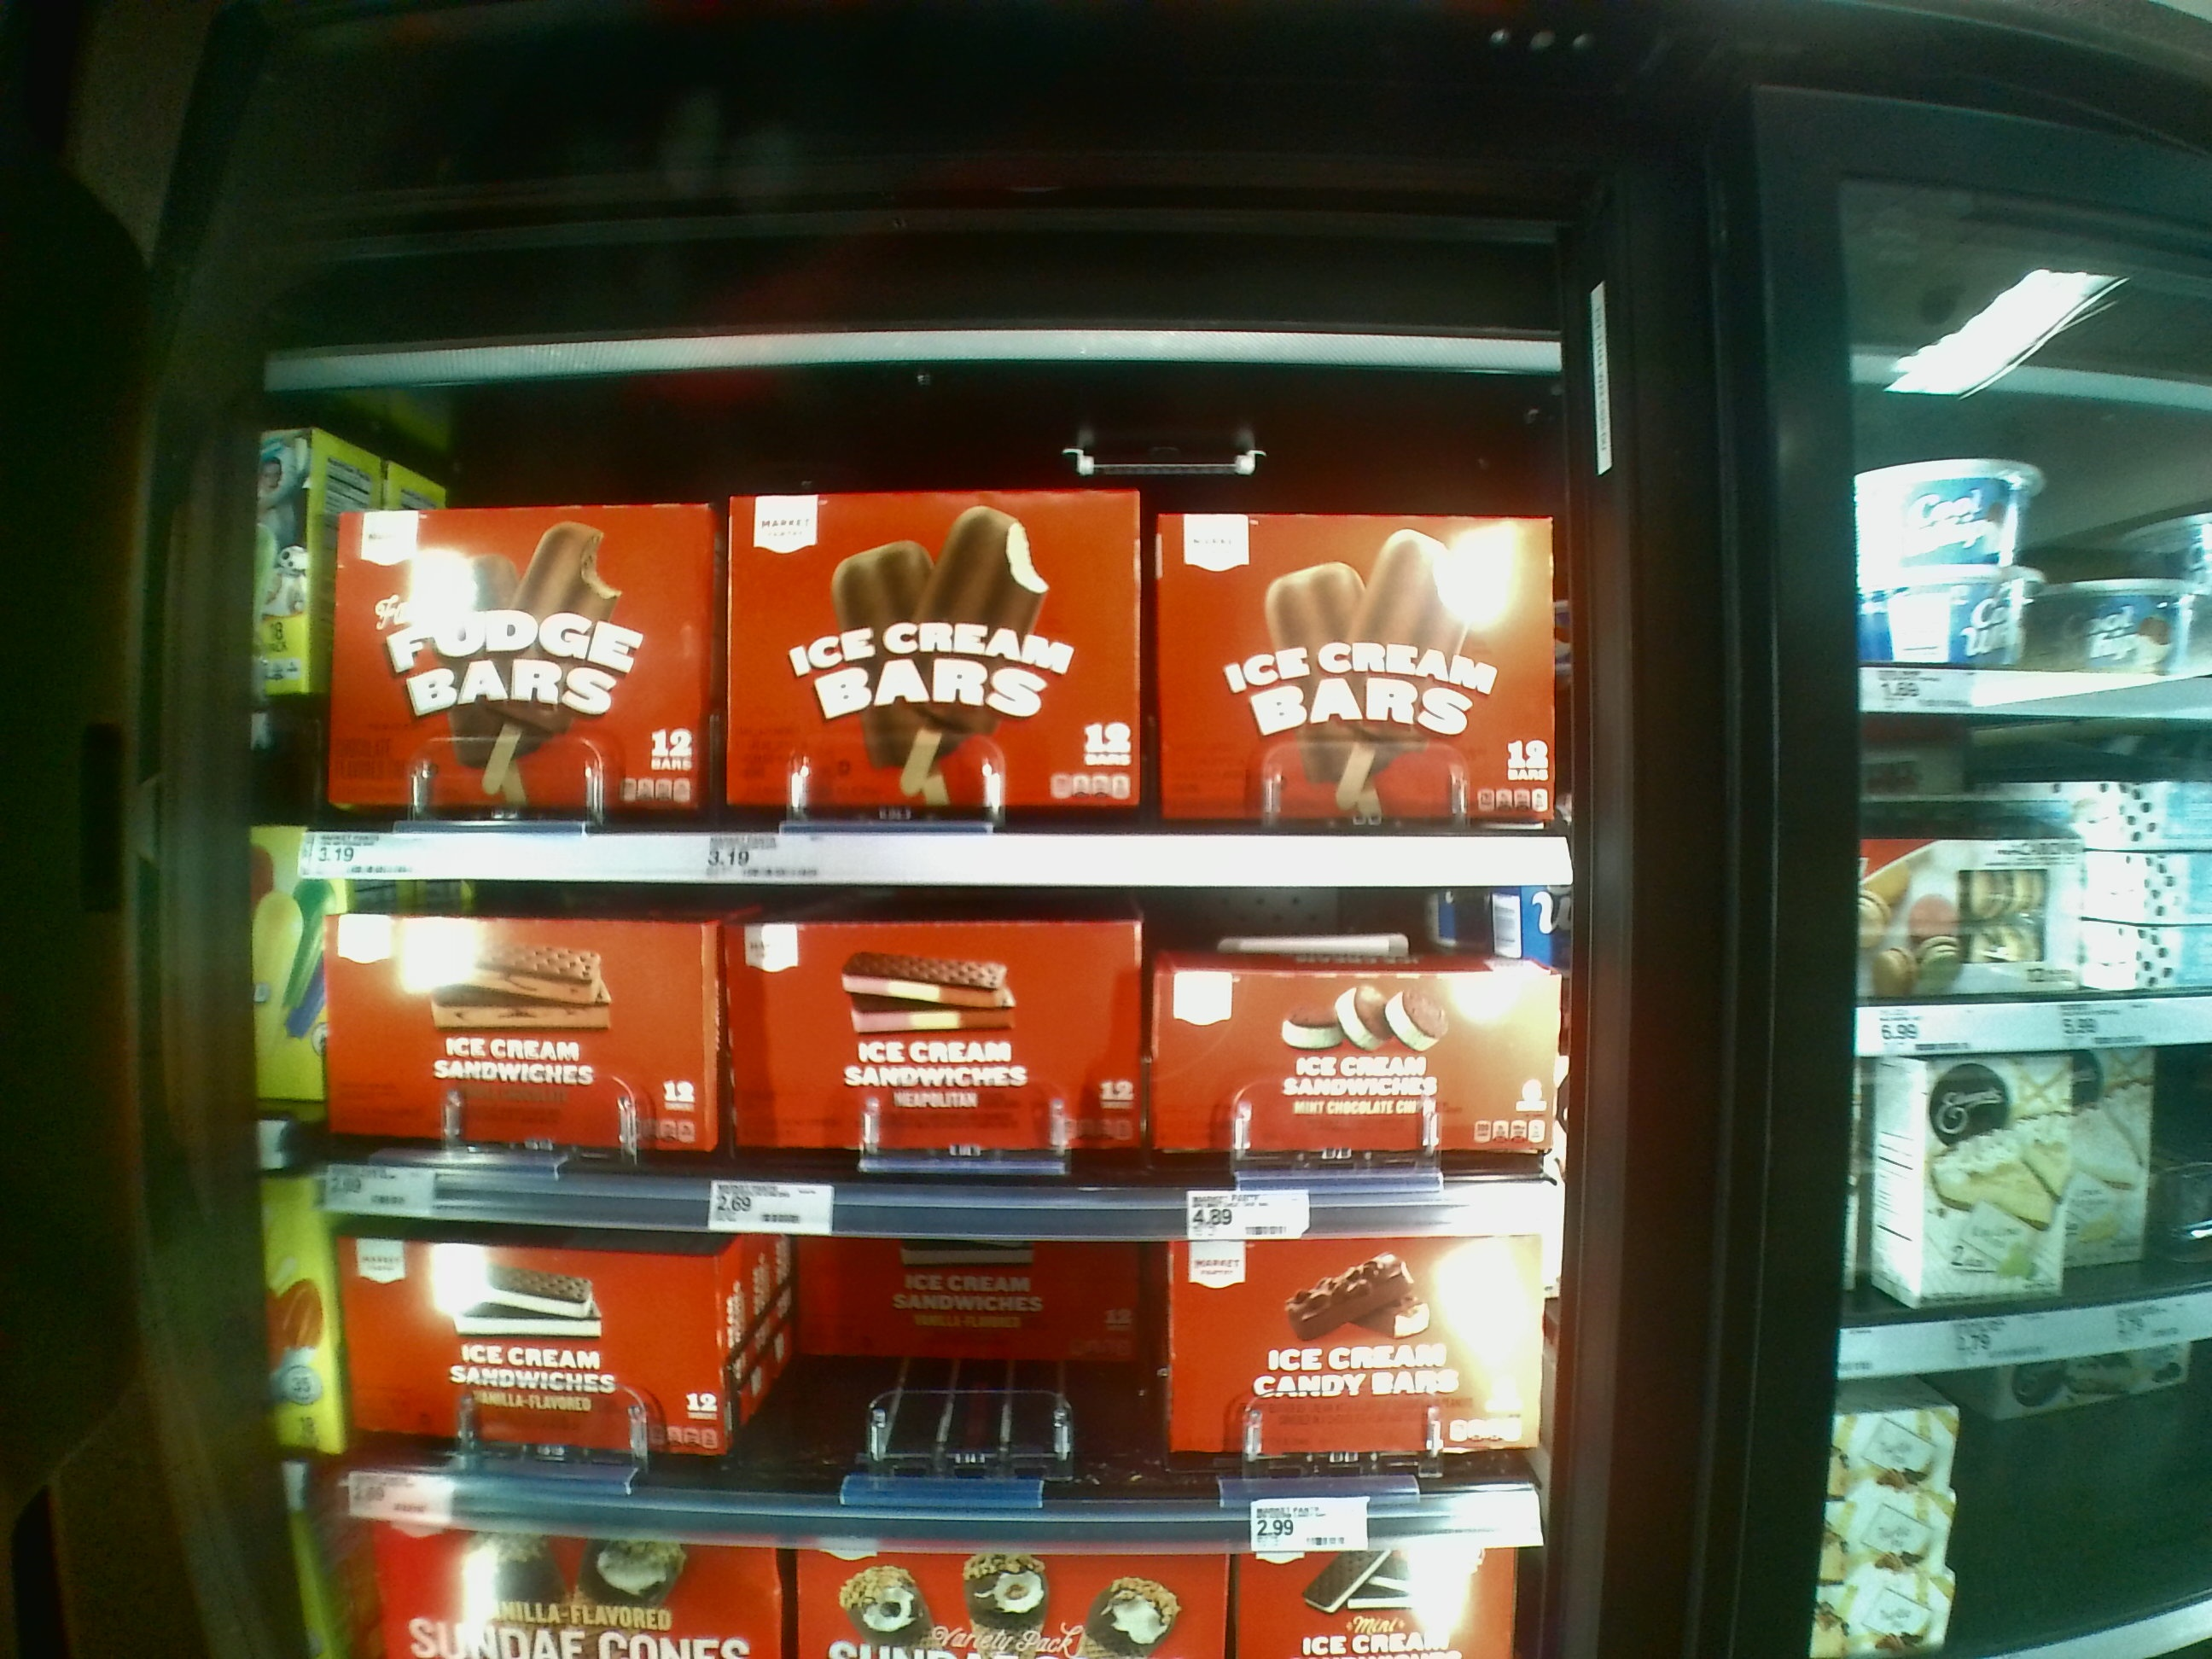shelf: (308, 404, 1578, 885), (308, 877, 1540, 1237), (327, 1220, 1543, 1547)
